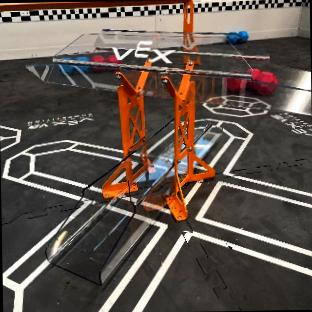Low_goal: (45, 119, 217, 283)
